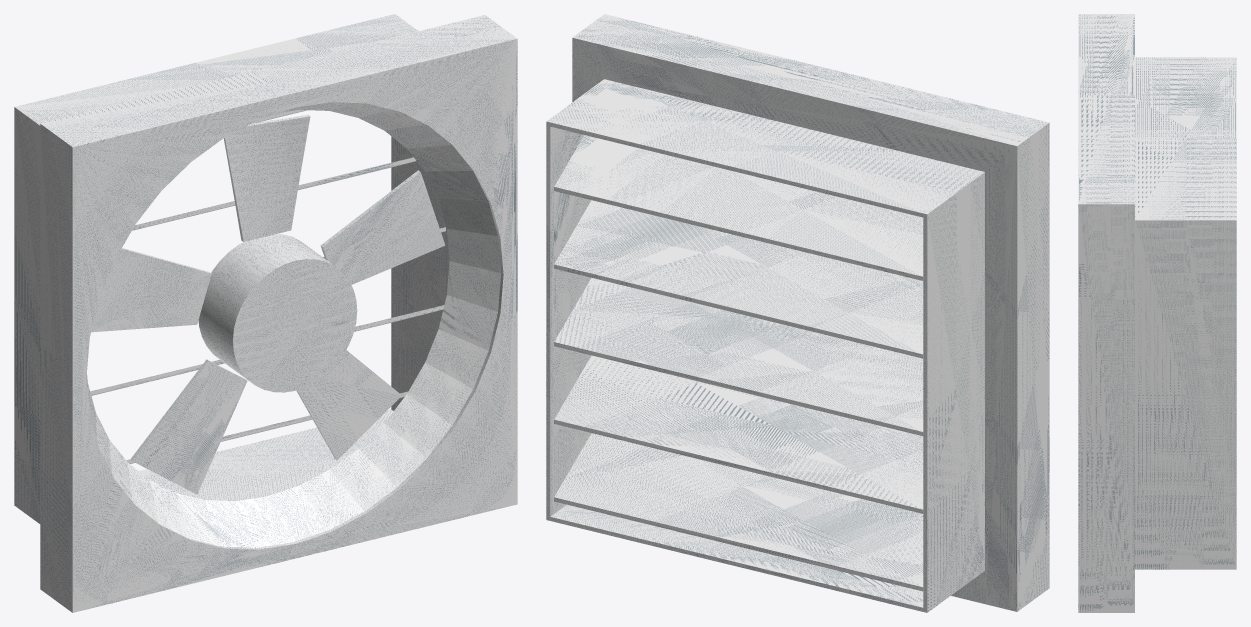
File: Fan.dae
3 renders of one model, left to right at view 1: azimuth 30°, elevation 25°; view 2: azimuth 150°, elevation 25°; view 3: azimuth 270°, elevation 25°, orthographic. The views are drawn at different scales.
Parts seen in each view (by area): view 1: Group_308 (×3), group_0 (×2), group_1, Group_318 (×4), Group_319, Group_311 (×2); view 2: Group_311 (×5), Group_308 (×2); view 3: Group_308.
Part boxes in pixels (bbox=[...]): Group_308 (×3): bbox=[14, 14, 516, 612]; group_0 (×2): bbox=[72, 38, 517, 612]; group_1: bbox=[86, 102, 501, 547]; Group_318 (×4): bbox=[91, 170, 445, 494]; Group_319: bbox=[223, 114, 310, 241]; Group_311 (×2): bbox=[90, 157, 444, 395]; Group_311 (×5): bbox=[554, 135, 923, 591]; Group_308 (×2): bbox=[546, 14, 1049, 612]; Group_308: bbox=[1078, 14, 1236, 612].
Size of the model in its own units: 13.88 by 4.88 by 13.88.
